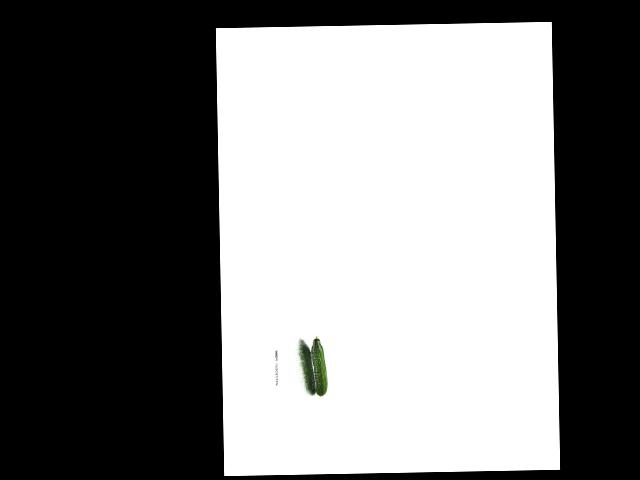cucumber: (310, 336, 327, 395)
